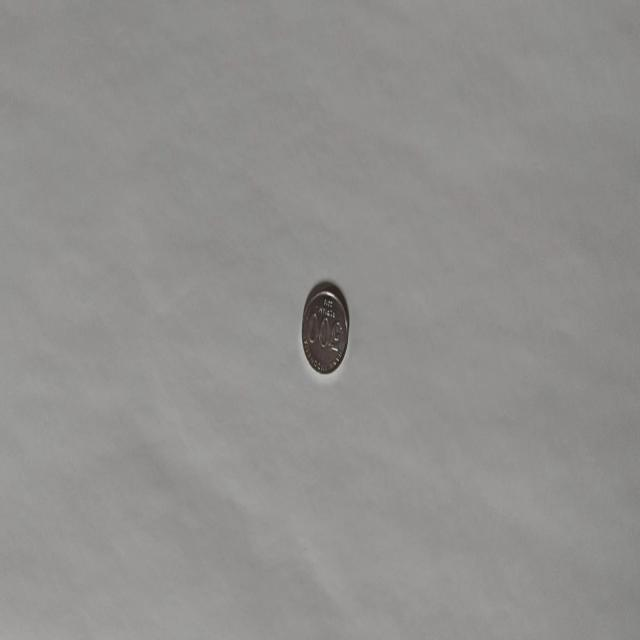lima ratus rupiah: (300, 280, 350, 375)
